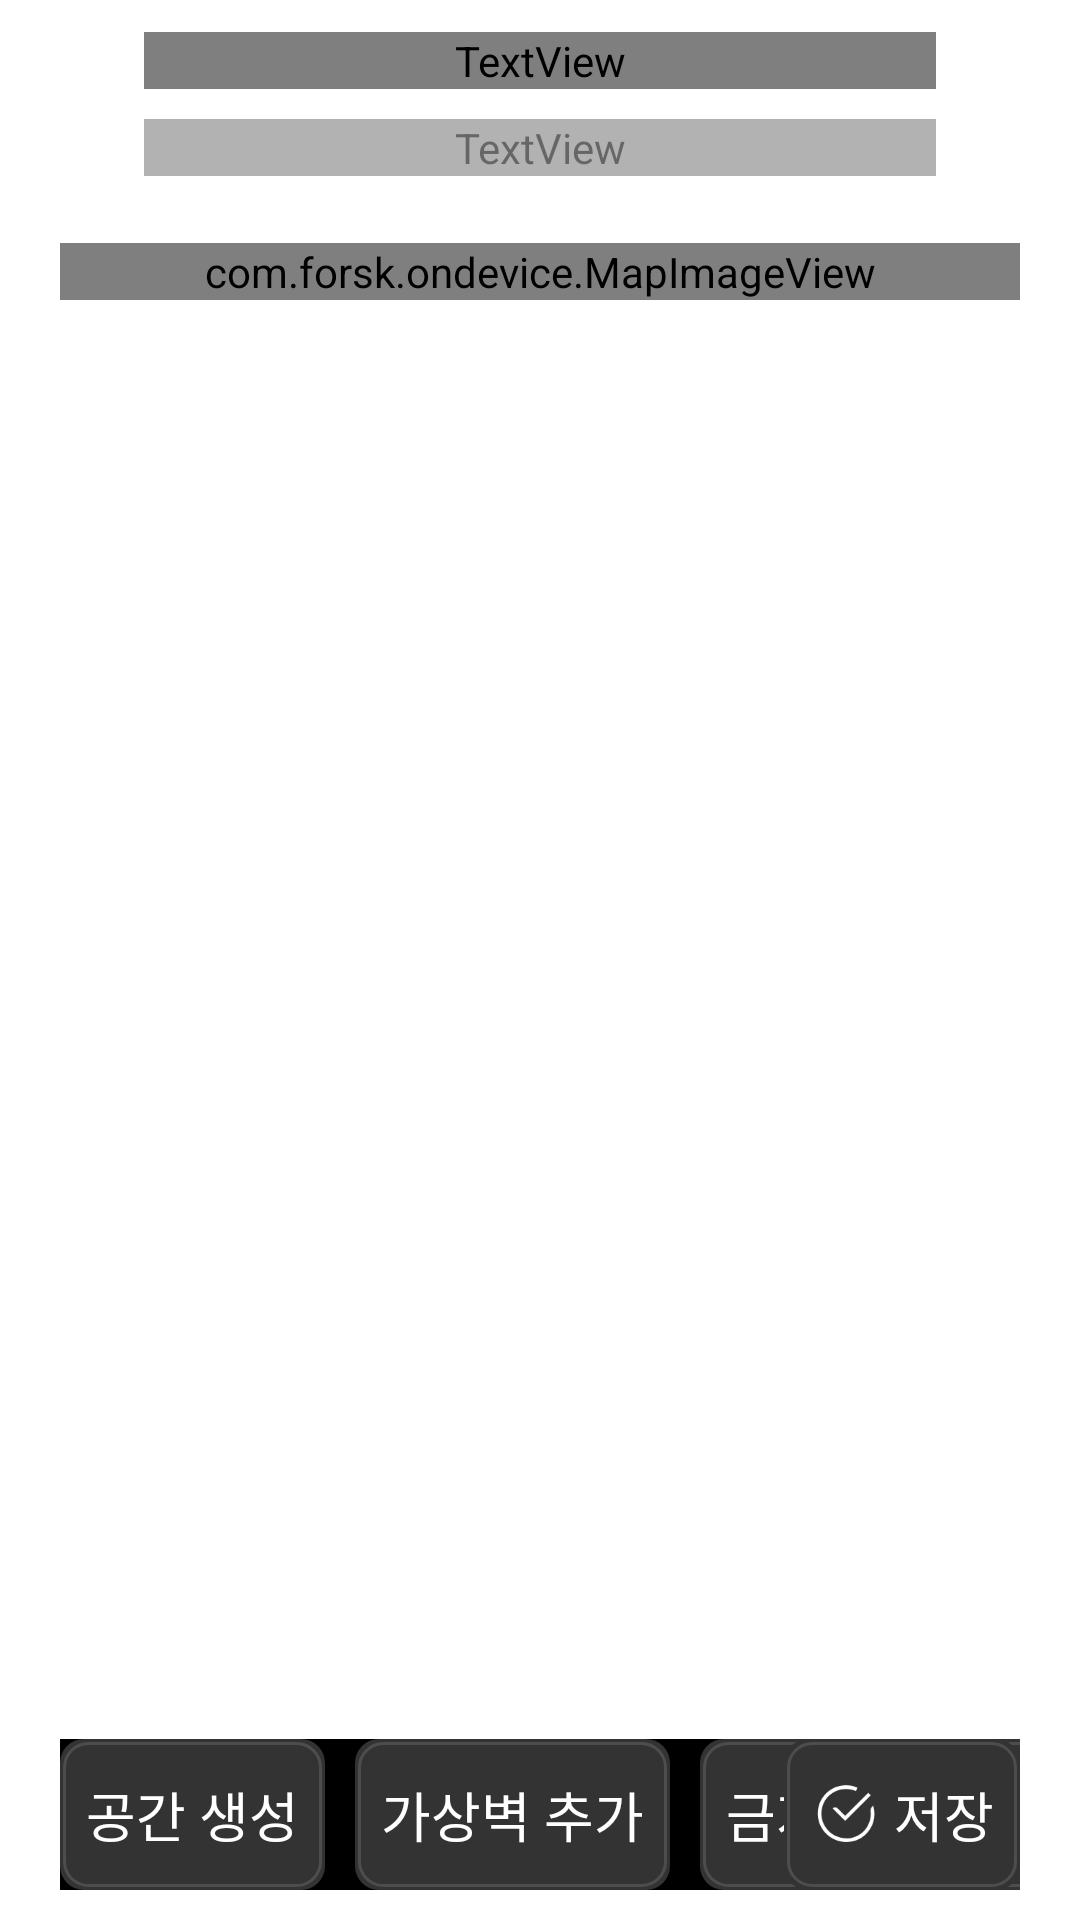

Point at icon controls on the screen. Image size 1080 × 1920, points as [x,y].
complete: [846,1813]
